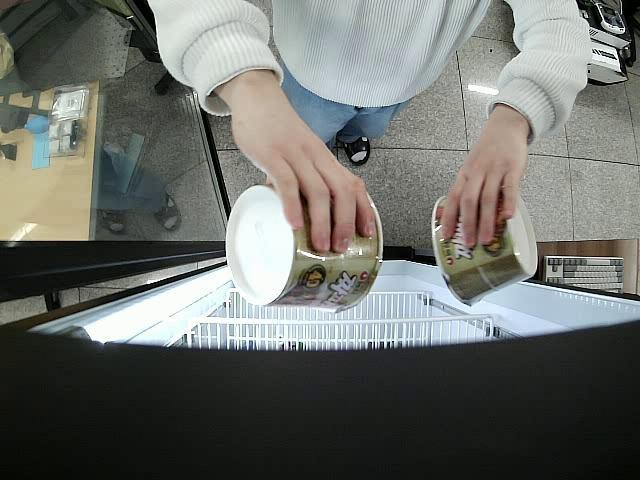03_chapagetti_L: (224, 184, 383, 316), (432, 194, 536, 306)
